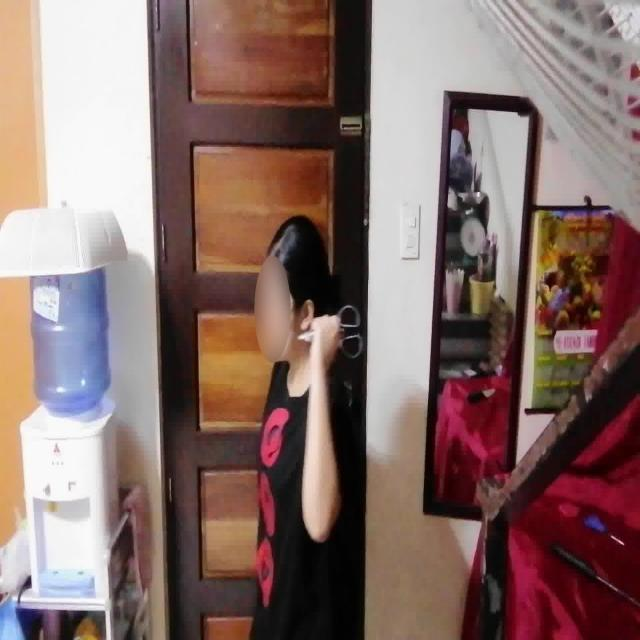scissor: (297, 304, 363, 360)
